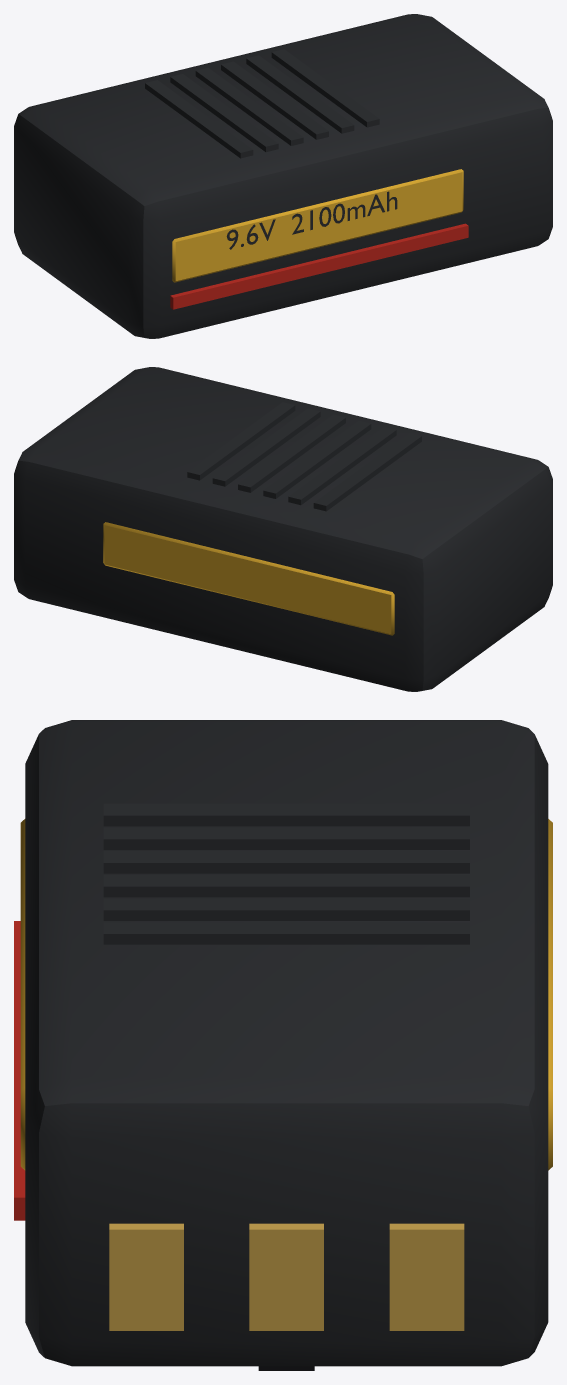
File: item_battery.glb
3 renders of one model, top to bottom at view 1: azimuth 30°, elevation 25°; view 2: azimuth 150°, elevation 25°; view 3: azimuth 270°, elevation 25°, orthographic. The views are drawn at different scales.
Visible parts, largest first — view 1: Battery; view 2: Battery; view 3: Battery.
Part boxes in pixels (x1,y1,x2,y2): Battery: (14,14,552,338); Battery: (14,367,552,691); Battery: (14,720,552,1370).
Size of the model in its own units: 0.1015 by 0.0371 by 0.0577.
